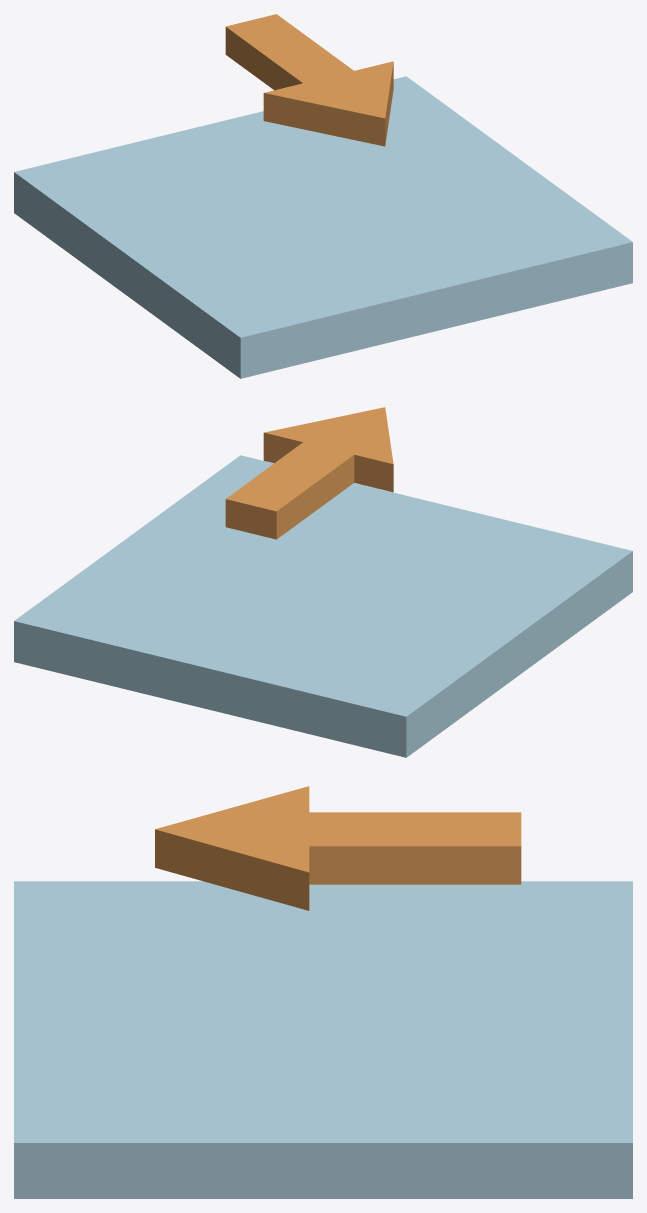
The model's file is hologram.fbx.
The picture shows the model from 3 angles, top to bottom: view 1: azimuth 30°, elevation 25°; view 2: azimuth 150°, elevation 25°; view 3: azimuth 270°, elevation 25°; orthographic projection. The views are drawn at different scales.
Parts seen in each view (by area): view 1: Cube, Plane; view 2: Cube, Plane; view 3: Cube, Plane.
Boxes of the visible parts, x1,y1,x2,y2 form: Cube: [14, 76, 632, 378]; Plane: [225, 14, 393, 146]; Cube: [14, 455, 632, 757]; Plane: [225, 407, 393, 539]; Cube: [14, 881, 632, 1198]; Plane: [155, 786, 521, 910].
Bounding box in the file's own units: 200 × 85.14 × 200.
